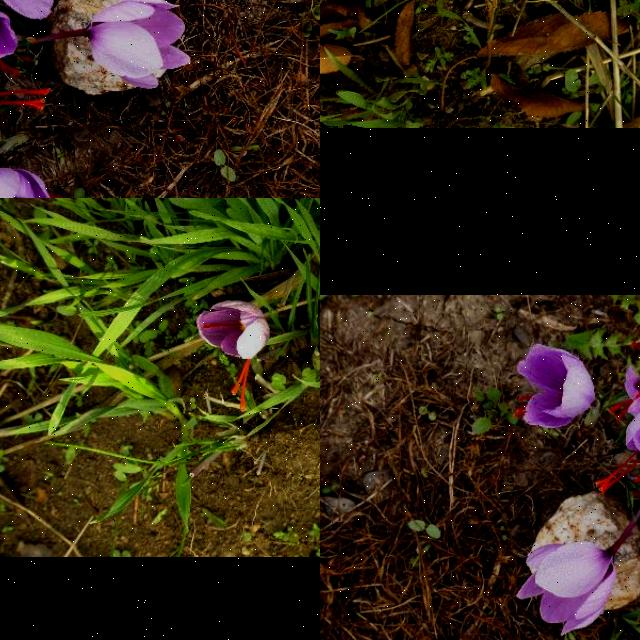flower: (83, 0, 192, 90), (514, 544, 618, 638), (197, 300, 270, 412), (513, 343, 597, 429), (593, 352, 640, 497), (0, 166, 76, 198)
overlap: (0, 0, 104, 194)
